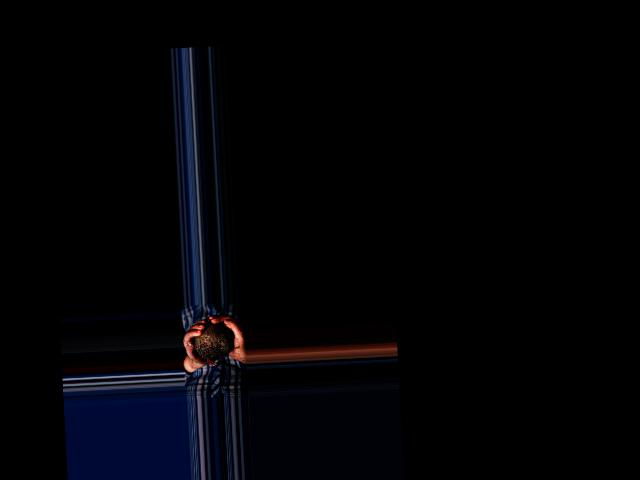beet: (193, 321, 234, 367)
